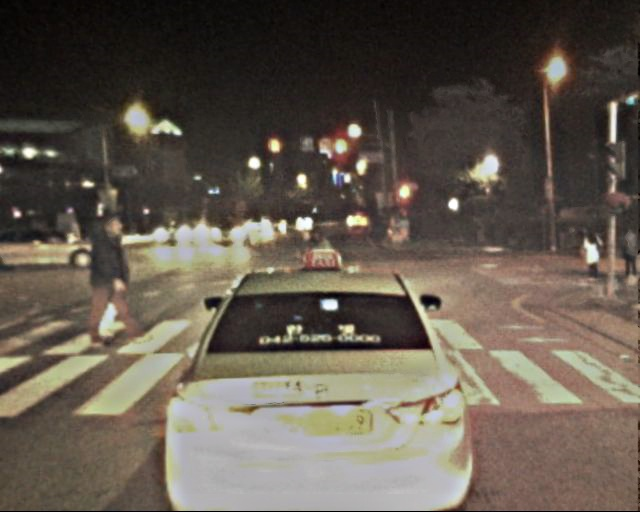person: (84, 215, 136, 341), (297, 228, 339, 331), (581, 228, 604, 285), (619, 229, 640, 283)
